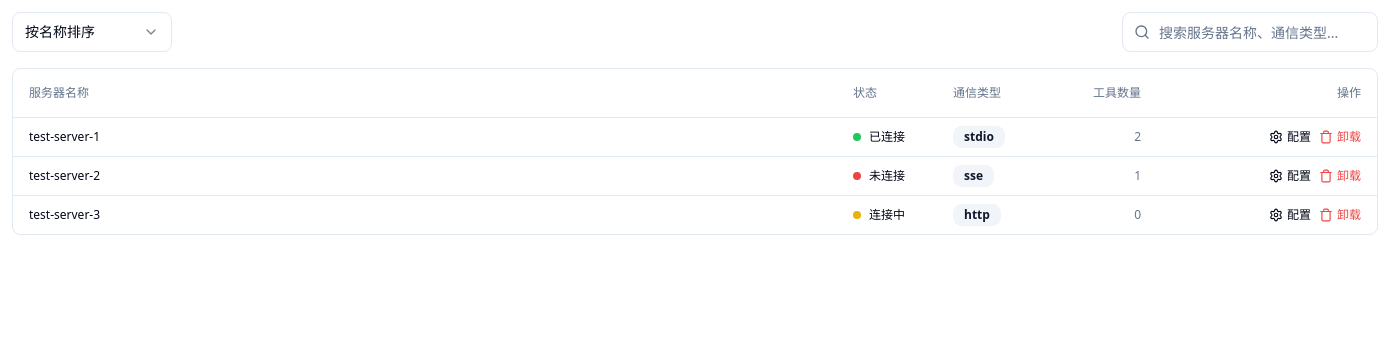
McpServerTable › 搜索功能 › 搜索无结果时应该显示无结果提示
Type "nonexistent-server" into the field with placeholder "搜索服务器名称、通信类型...".
click(1250, 32); type("nonexistent-server")  # box [1122, 12, 1378, 52]
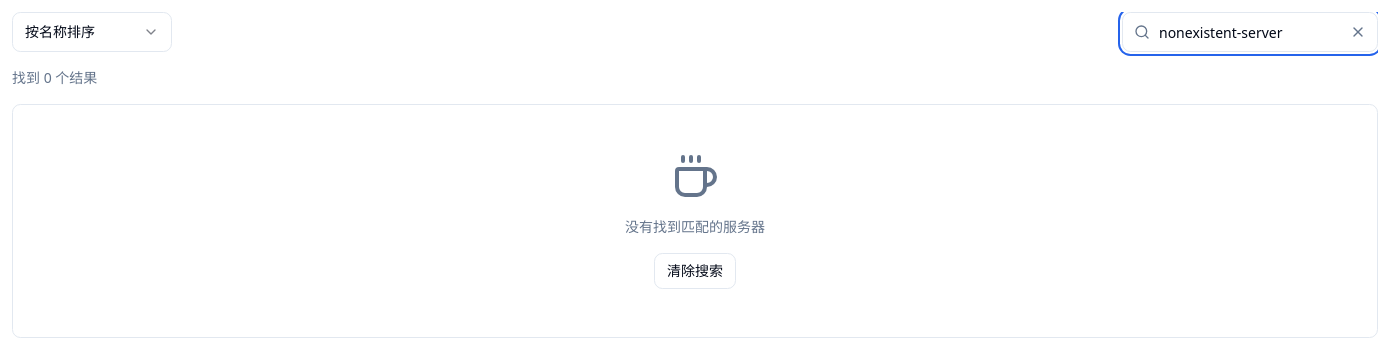
Now the text "没有找到匹配的服务器" is shown, box [625, 217, 765, 237]
